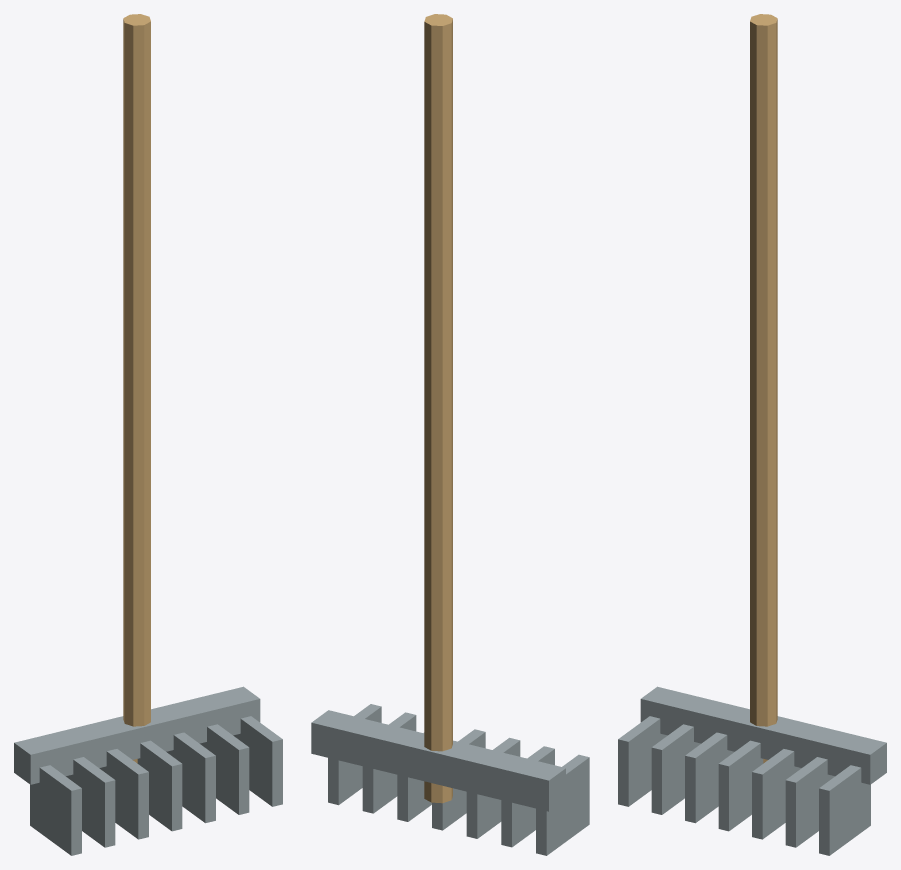
Rendered from TR3_Tool_Rake.glb.
The picture shows the model from 3 angles, left to right: view 1: azimuth 30°, elevation 25°; view 2: azimuth 150°, elevation 25°; view 3: azimuth 330°, elevation 25°; orthographic projection. The views are drawn at different scales.
Parts seen in each view (by area): view 1: TR3_Tool_Rake; view 2: TR3_Tool_Rake; view 3: TR3_Tool_Rake.
Boxes of the visible parts, x1,y1,x2,y2 form: TR3_Tool_Rake: [14, 14, 282, 855]; TR3_Tool_Rake: [311, 14, 589, 855]; TR3_Tool_Rake: [618, 14, 886, 855].
Size of the model in its own units: 0.48 by 1.56 by 0.175.
